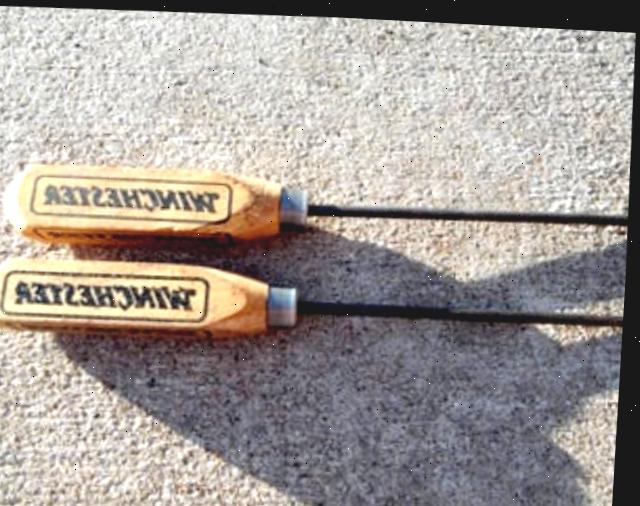ice pick: (0, 244, 629, 358), (6, 153, 632, 266)
